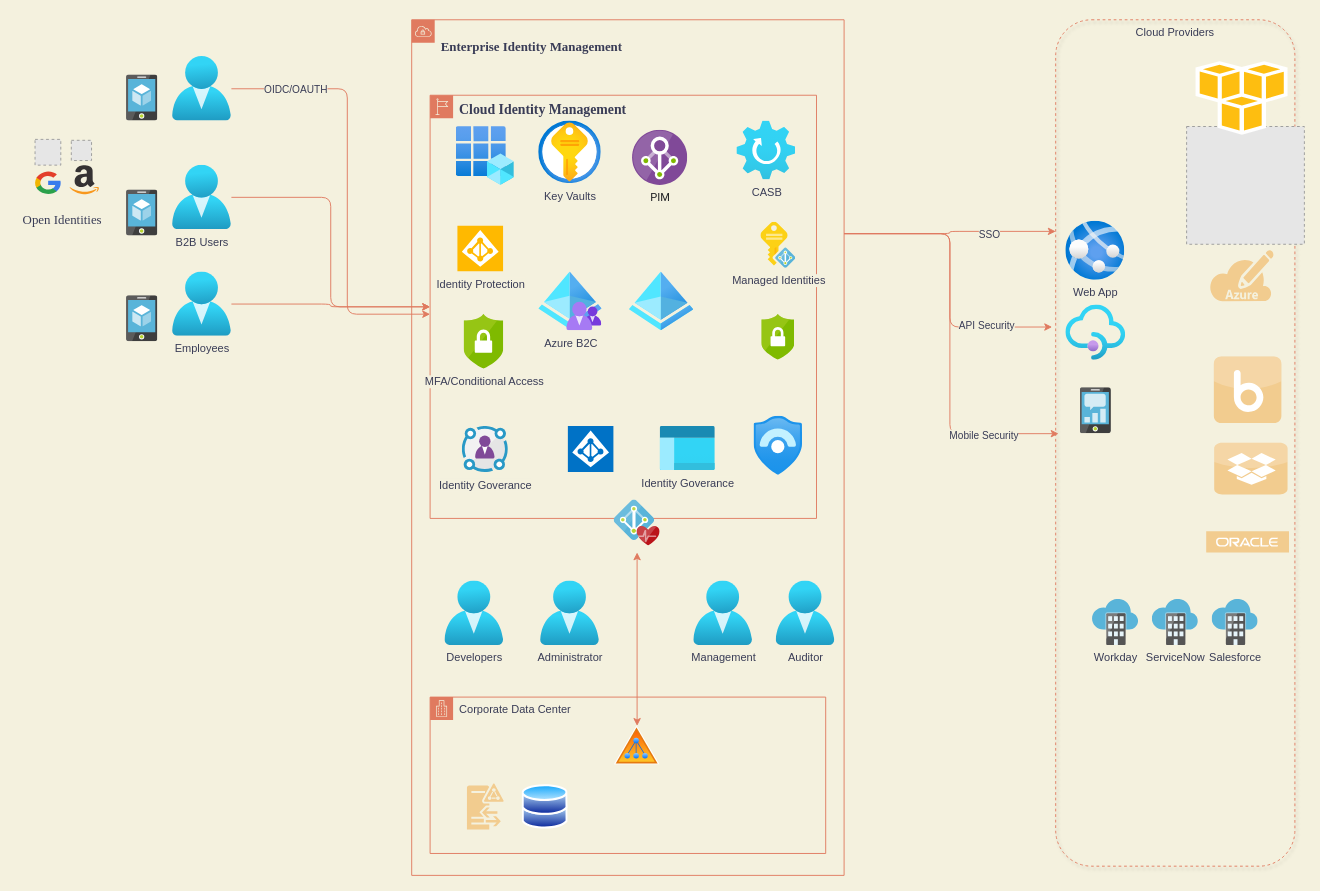
Some shapes in this 1320 by 891 pixel diagram are drawn without their labels. Grey dashed boxes stand in for pictures. The centre of each missing label's shape, as x and y in pixels:
Access Portal: point (485, 155)
Access Review: point (591, 449)
API: point (1095, 332)
Azure Connect & Health: point (637, 523)
Azure Directory: point (661, 300)
Azure Security Center: point (777, 337)
Azure Sentinel: point (778, 445)
B2C Users: point (201, 88)
Mobile App: point (1095, 410)
OnPremise DIrectory: point (637, 745)
Oracle ERP: point (1247, 541)
